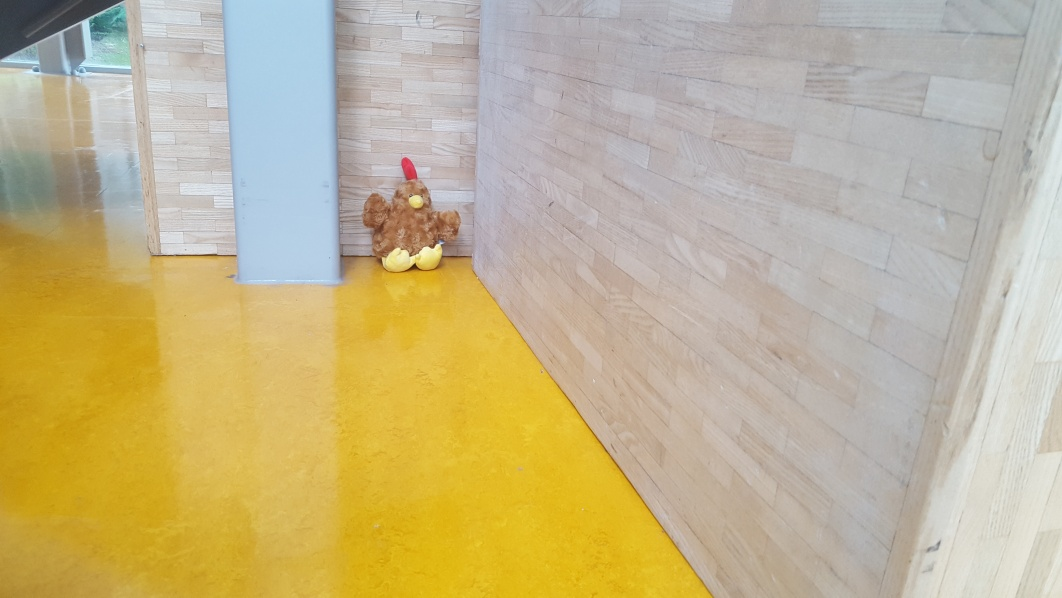chicken: (362, 157, 461, 274)
